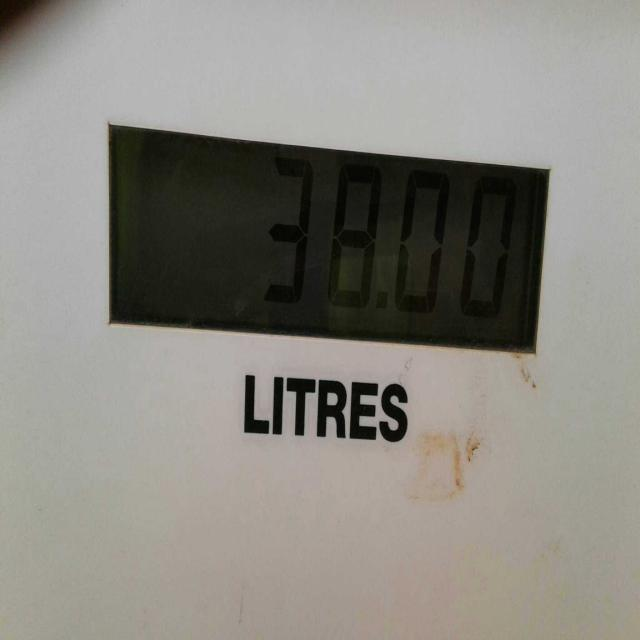.: (378, 296, 388, 322)
0: (397, 153, 449, 324), (468, 181, 511, 315)
3: (273, 155, 308, 302)
8: (327, 149, 376, 312)
